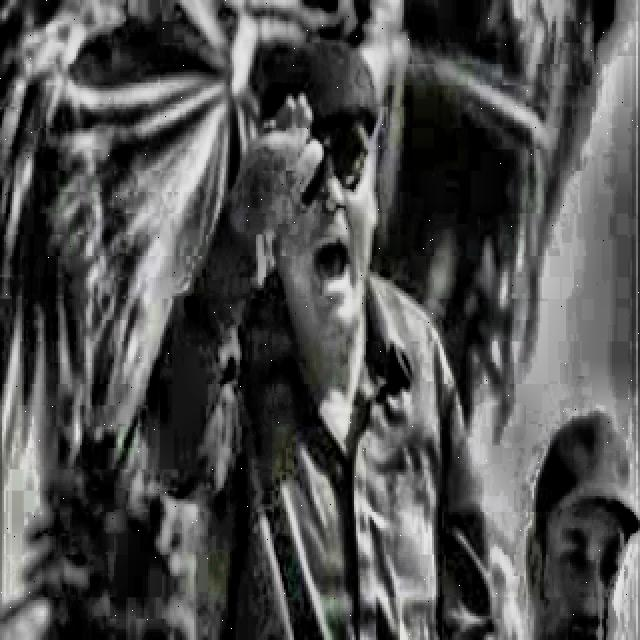T: (145, 35, 513, 639)
